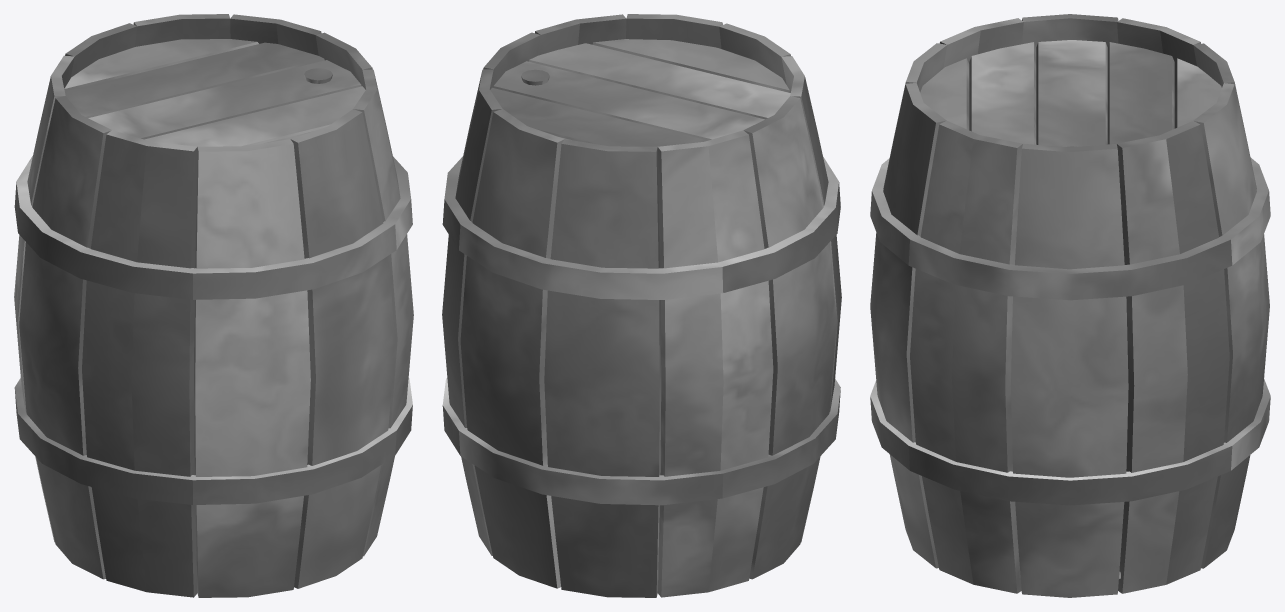
Rendered from SM_barrel_02.fbx.
3 views of the same model, side by side, from view 1: azimuth 30°, elevation 25°; view 2: azimuth 150°, elevation 25°; view 3: azimuth 270°, elevation 25° (orthographic).
Visible parts, largest first — view 1: SM_barrel_02; view 2: SM_barrel_02; view 3: SM_barrel_02.
Boxes of the visible parts, left/top/right/bottom form: SM_barrel_02: left=14, top=14, right=413, bottom=597; SM_barrel_02: left=442, top=14, right=841, bottom=597; SM_barrel_02: left=870, top=14, right=1270, bottom=597.
Bounding box in the file's own units: 78.86 × 78.57 × 96.58.
Materials: 1 (1 with a texture image).
